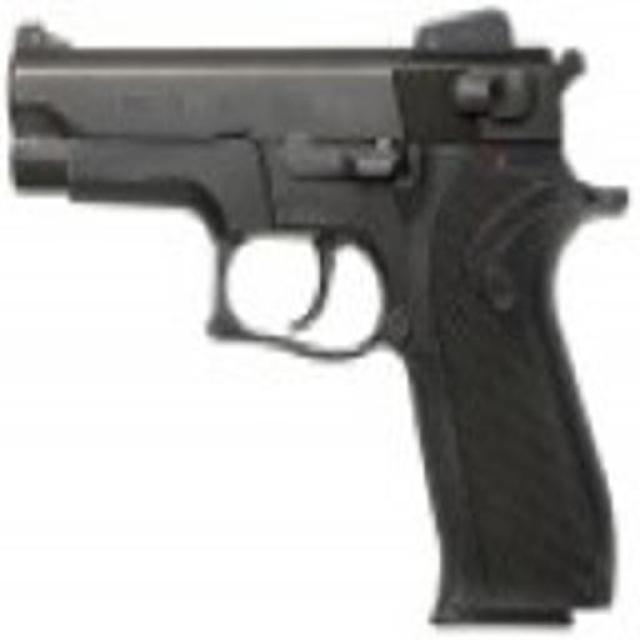pistol: (7, 10, 627, 624)
